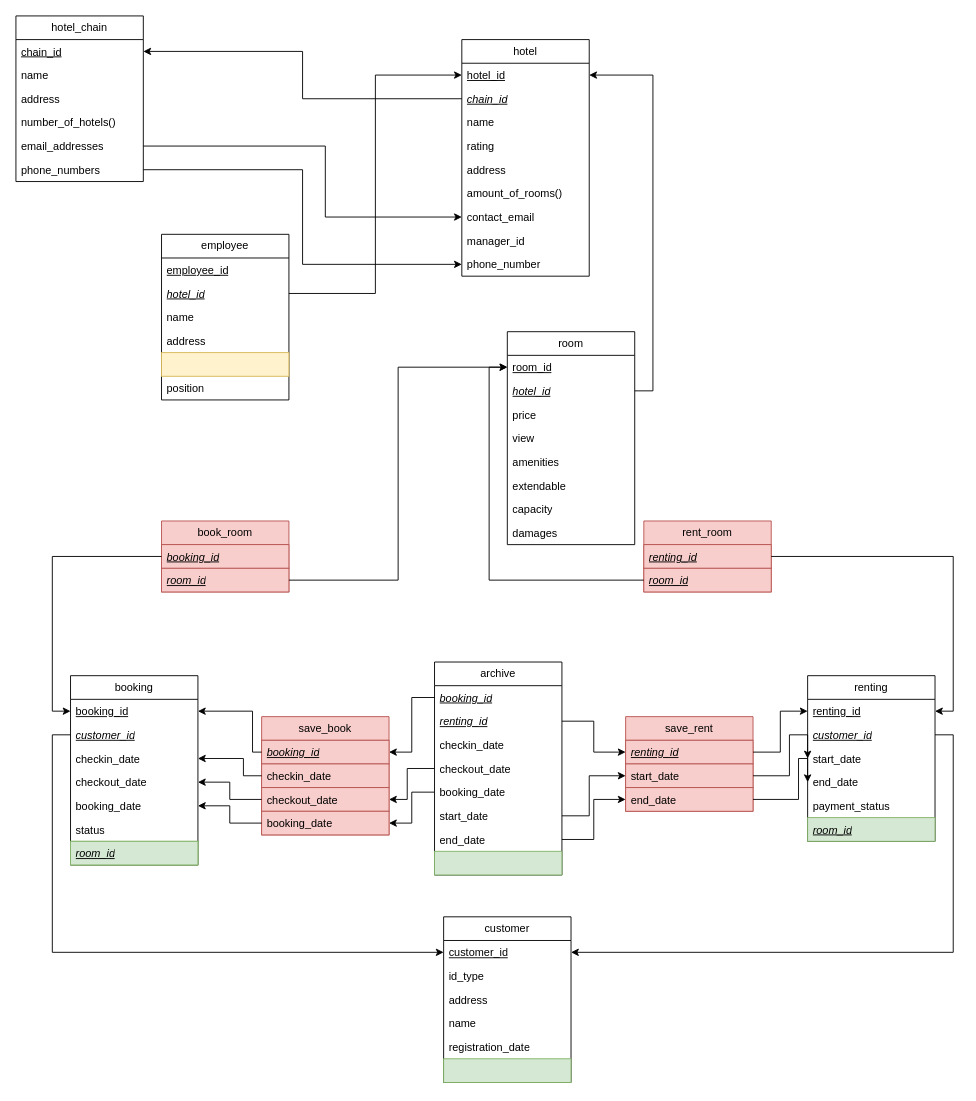
This 976x1101 diagram has some shape labels left out. Each missing label, with the centre of its shape:
"archive_id" goes at pixel 498 862.
"id_number" goes at pixel 507 1070.
"SSN/SIN -> SIN_num" goes at pixel 225 364.
